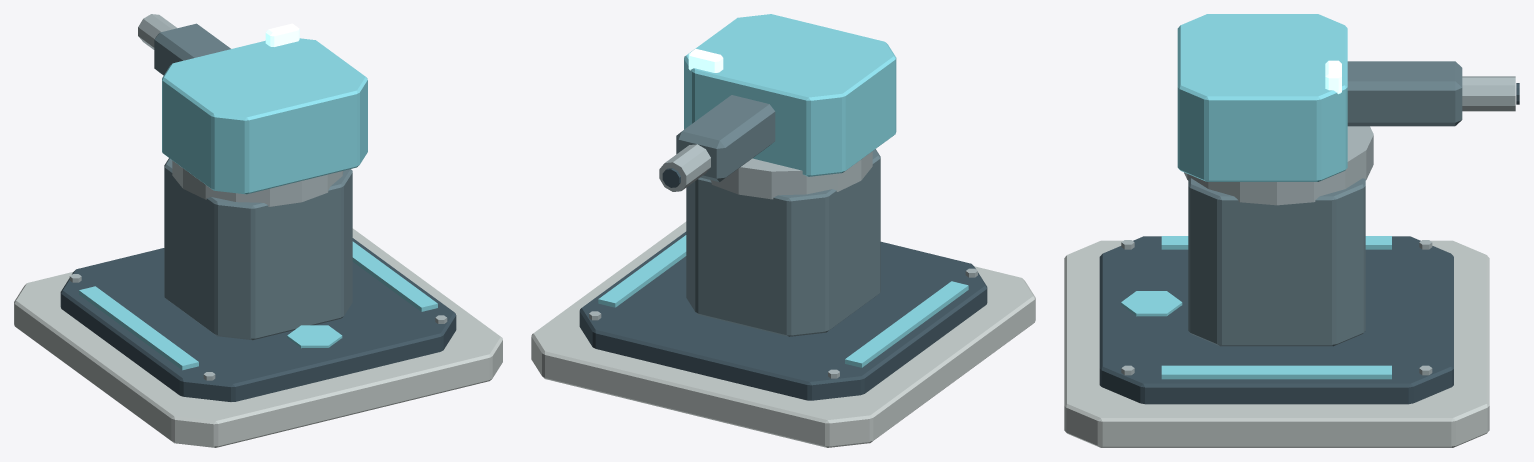
File: turret.glb
3 renders of one model, left to right at view 1: azimuth 30°, elevation 25°; view 2: azimuth 150°, elevation 25°; view 3: azimuth 270°, elevation 25°, orthographic. The views are drawn at different scales.
Parts seen in each view (by area): view 1: turret_armour, mount, foundation, pedestal, asset_turret__FP_Team, asset_turret__FP_Steel, barrel_cover, Hexagon, barrel, sensor; view 2: mount, foundation, pedestal, turret_armour, barrel_cover, asset_turret__FP_Team, asset_turret__FP_Steel, barrel, sensor; view 3: mount, foundation, turret_armour, pedestal, barrel_cover, asset_turret__FP_Steel, asset_turret__FP_Team, barrel, Hexagon, sensor.
Part boxes in pixels (bbox=[...]): turret_armour: bbox=[162, 38, 367, 194]; mount: bbox=[60, 238, 456, 401]; foundation: bbox=[14, 228, 502, 447]; pedestal: bbox=[164, 158, 352, 340]; asset_turret__FP_Team: bbox=[79, 241, 437, 370]; asset_turret__FP_Steel: bbox=[69, 160, 447, 380]; barrel_cover: bbox=[154, 23, 230, 75]; Hexagon: bbox=[287, 325, 342, 347]; barrel: bbox=[138, 14, 177, 49]; sensor: bbox=[265, 23, 299, 46]; mount: bbox=[579, 231, 987, 400]; foundation: bbox=[531, 221, 1035, 447]; pedestal: bbox=[686, 149, 880, 336]; turret_armour: bbox=[684, 14, 896, 176]; barrel_cover: bbox=[676, 95, 775, 182]; asset_turret__FP_Team: bbox=[598, 235, 968, 367]; asset_turret__FP_Steel: bbox=[589, 151, 977, 378]; barrel: bbox=[659, 144, 710, 191]; sensor: bbox=[688, 49, 723, 72]; mount: bbox=[1099, 236, 1453, 404]; foundation: bbox=[1064, 240, 1489, 447]; turret_armour: bbox=[1177, 14, 1347, 181]; pedestal: bbox=[1188, 178, 1365, 346]; barrel_cover: bbox=[1347, 61, 1462, 126]; asset_turret__FP_Steel: bbox=[1121, 126, 1432, 375]; asset_turret__FP_Team: bbox=[1161, 236, 1391, 379]; barrel: bbox=[1462, 76, 1515, 111]; Hexagon: bbox=[1121, 291, 1182, 316]; sensor: bbox=[1325, 60, 1341, 94].
Size of the model in its own units: 1.8 by 1.49 by 1.93.
